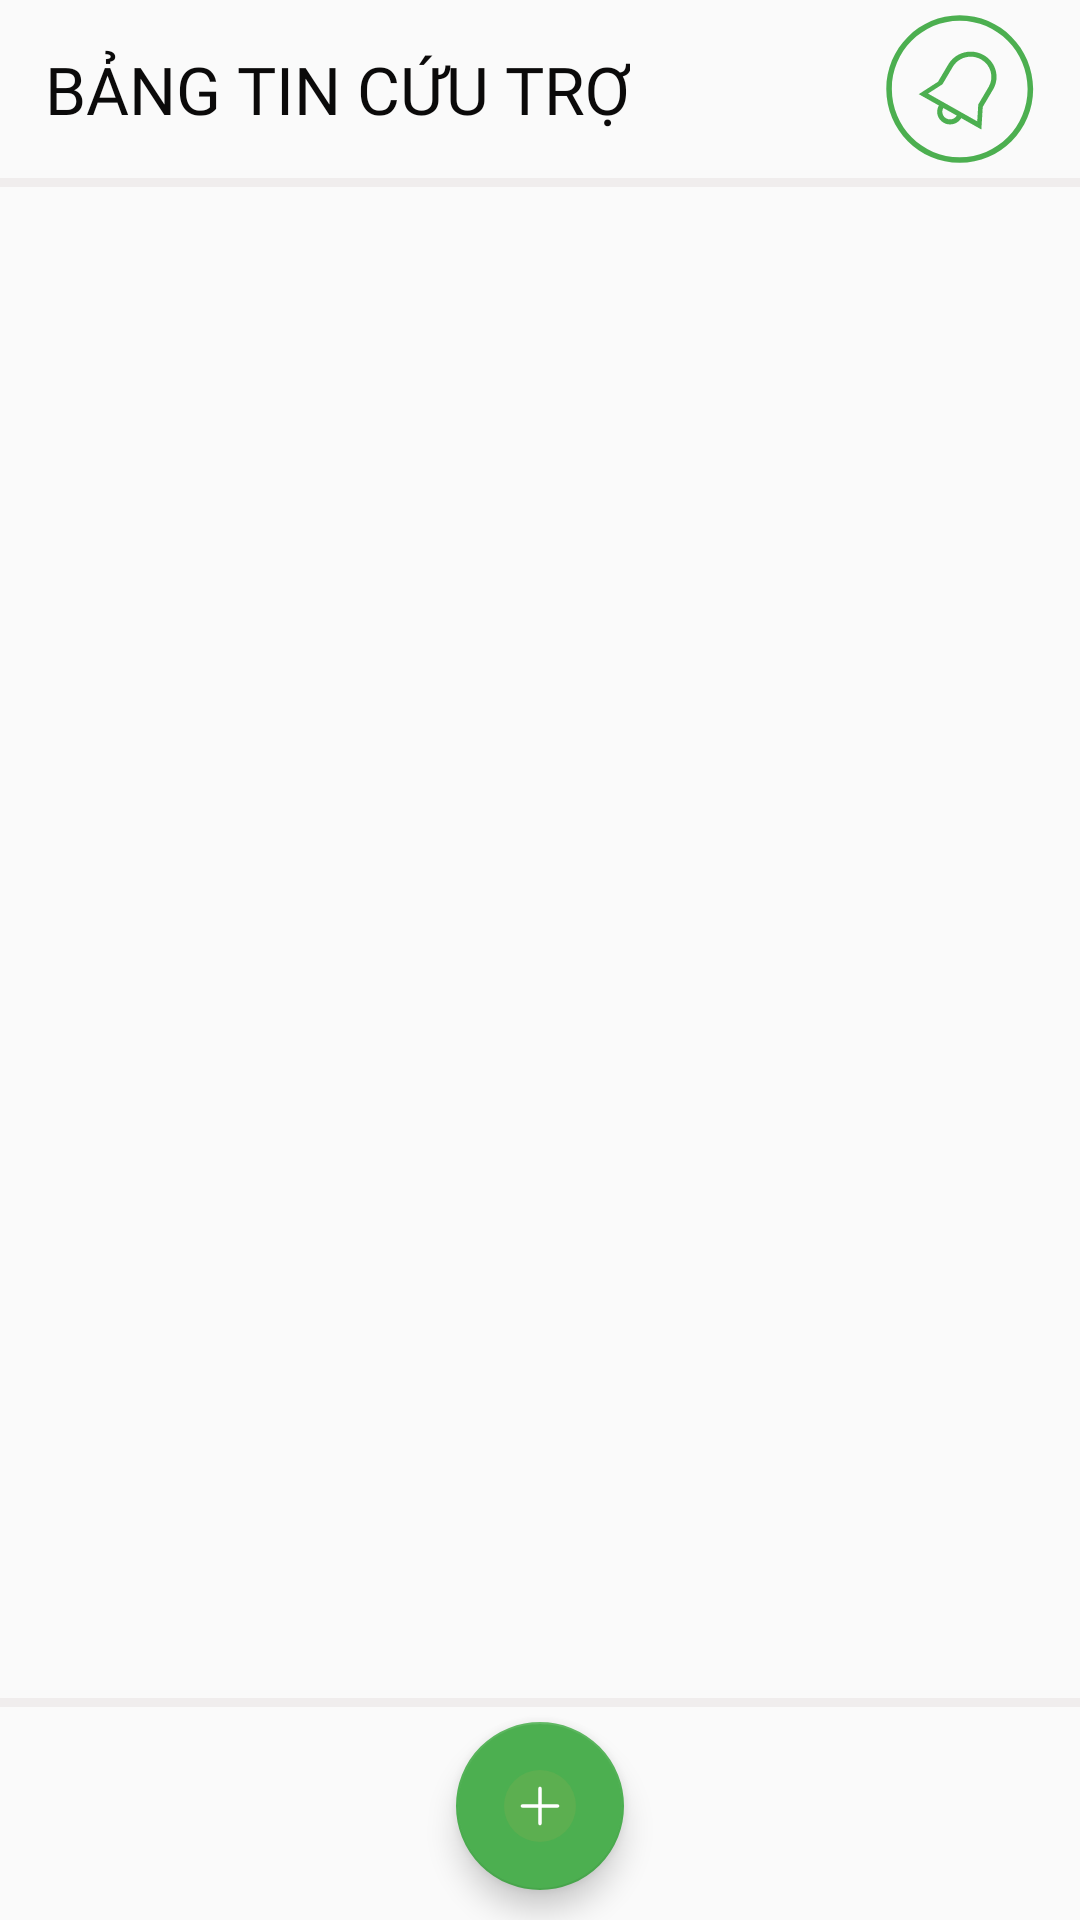

Screen size 1080×1920. Icon name, then its box in pixels as (x1, y1, x2, y2):
create: (456, 1722, 624, 1890)
notification bell: (886, 15, 1033, 163)
